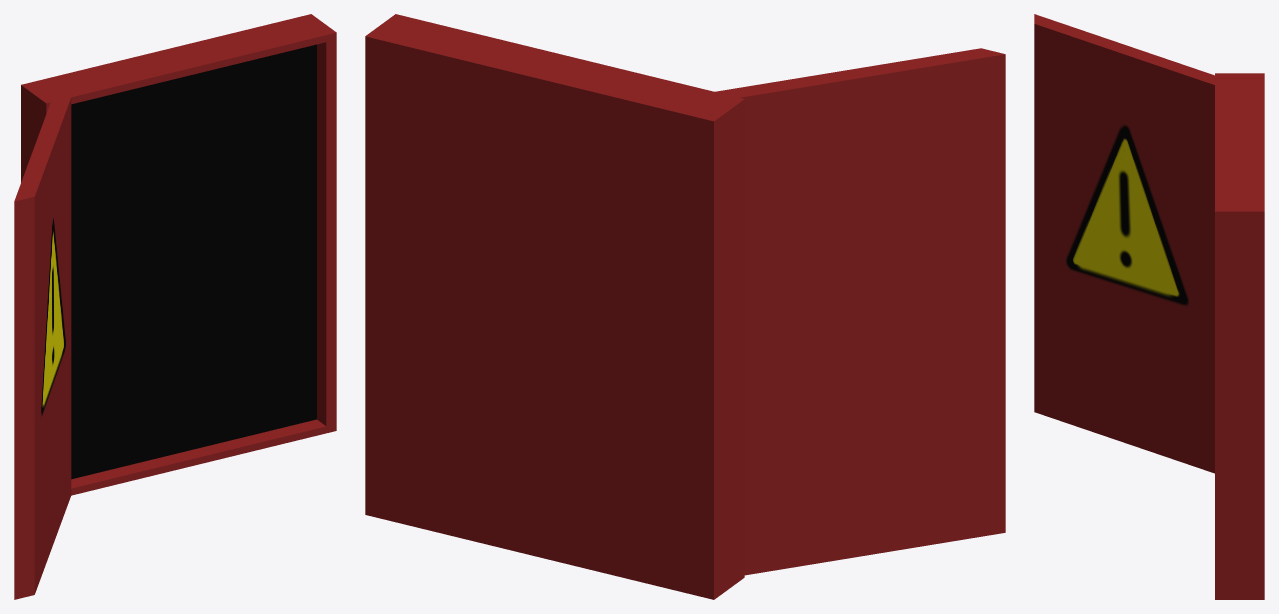
File: BreakerSub.glb
The picture shows the model from 3 angles, left to right: view 1: azimuth 30°, elevation 25°; view 2: azimuth 150°, elevation 25°; view 3: azimuth 270°, elevation 25°; orthographic projection. The views are drawn at different scales.
Visible parts, largest first — view 1: Cube.003, Cube; view 2: Cube; view 3: Cube.
Boxes of the visible parts, x1,y1,x2,y2 form: Cube.003: [71, 44, 316, 479]; Cube: [14, 14, 336, 599]; Cube: [365, 14, 1005, 599]; Cube: [1034, 14, 1264, 599].
Bounding box in the file's own units: 0.4783 × 0.4384 × 0.2355.
Materials: 2 (1 with a texture image).
